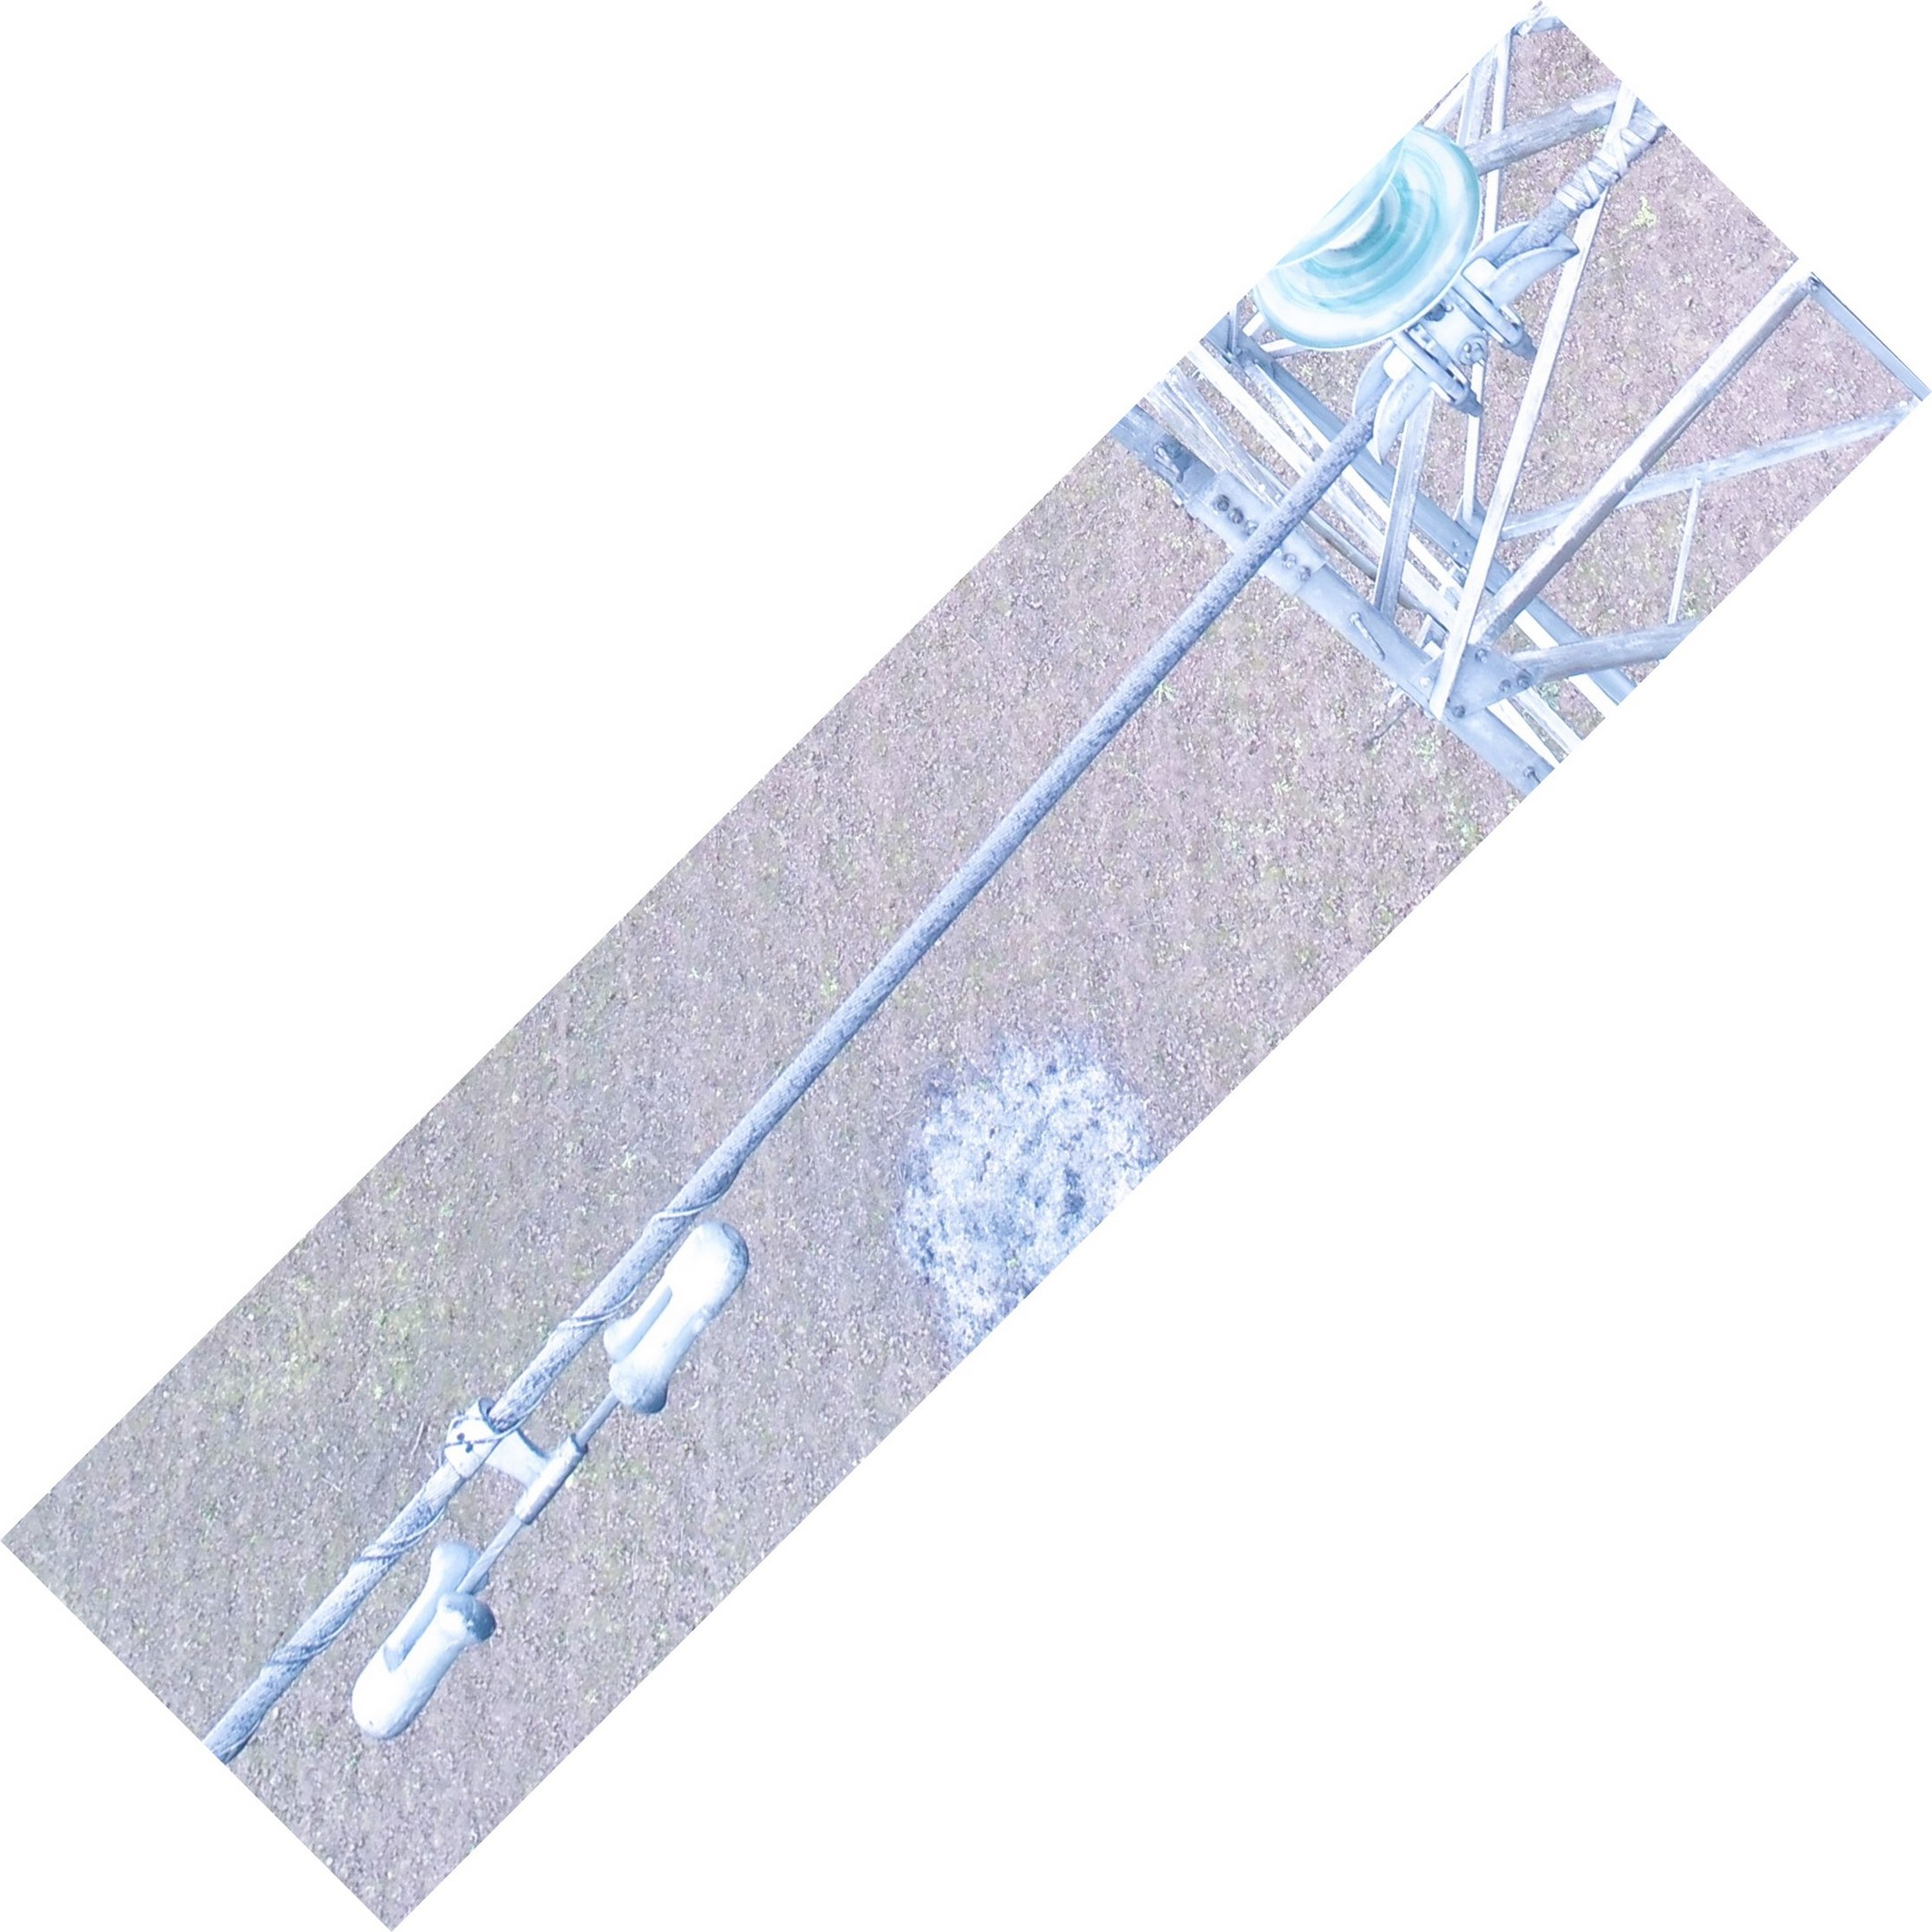Shockproof hammer: (301, 1182, 777, 1769)
